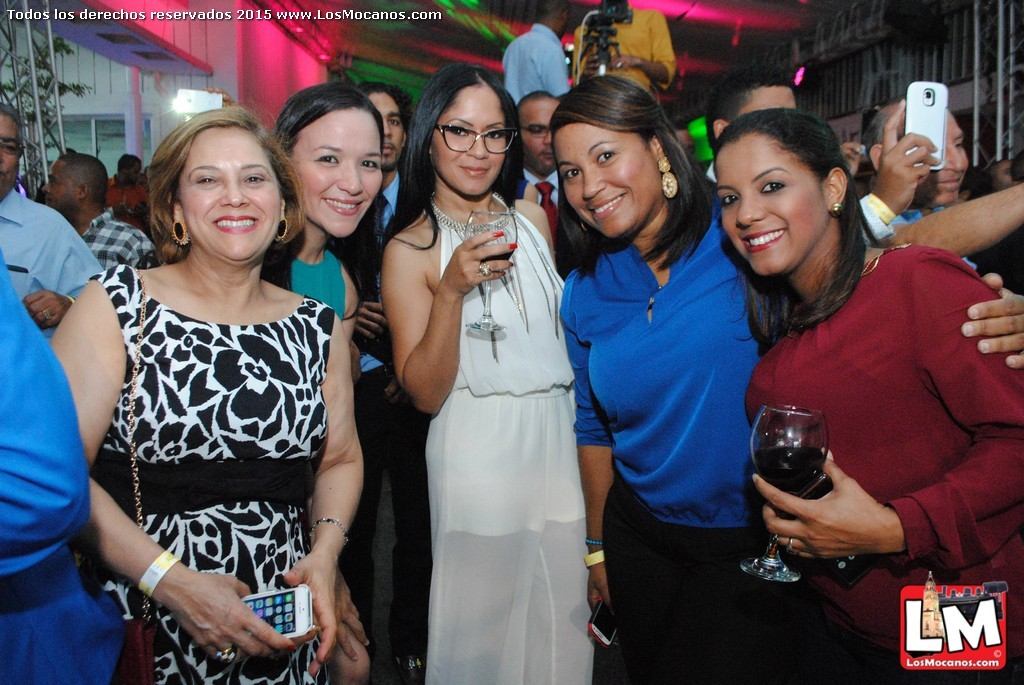Mobile-phone: (236, 578, 314, 641), (904, 84, 949, 172), (587, 597, 615, 651)
